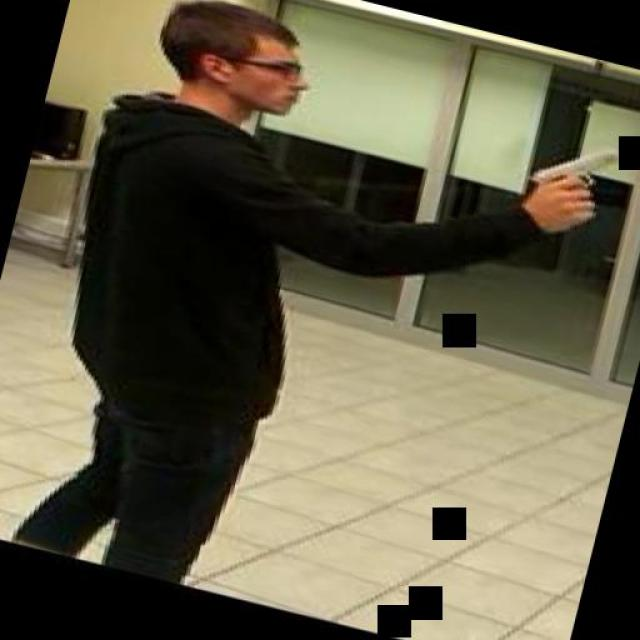gun: (515, 127, 624, 225)
